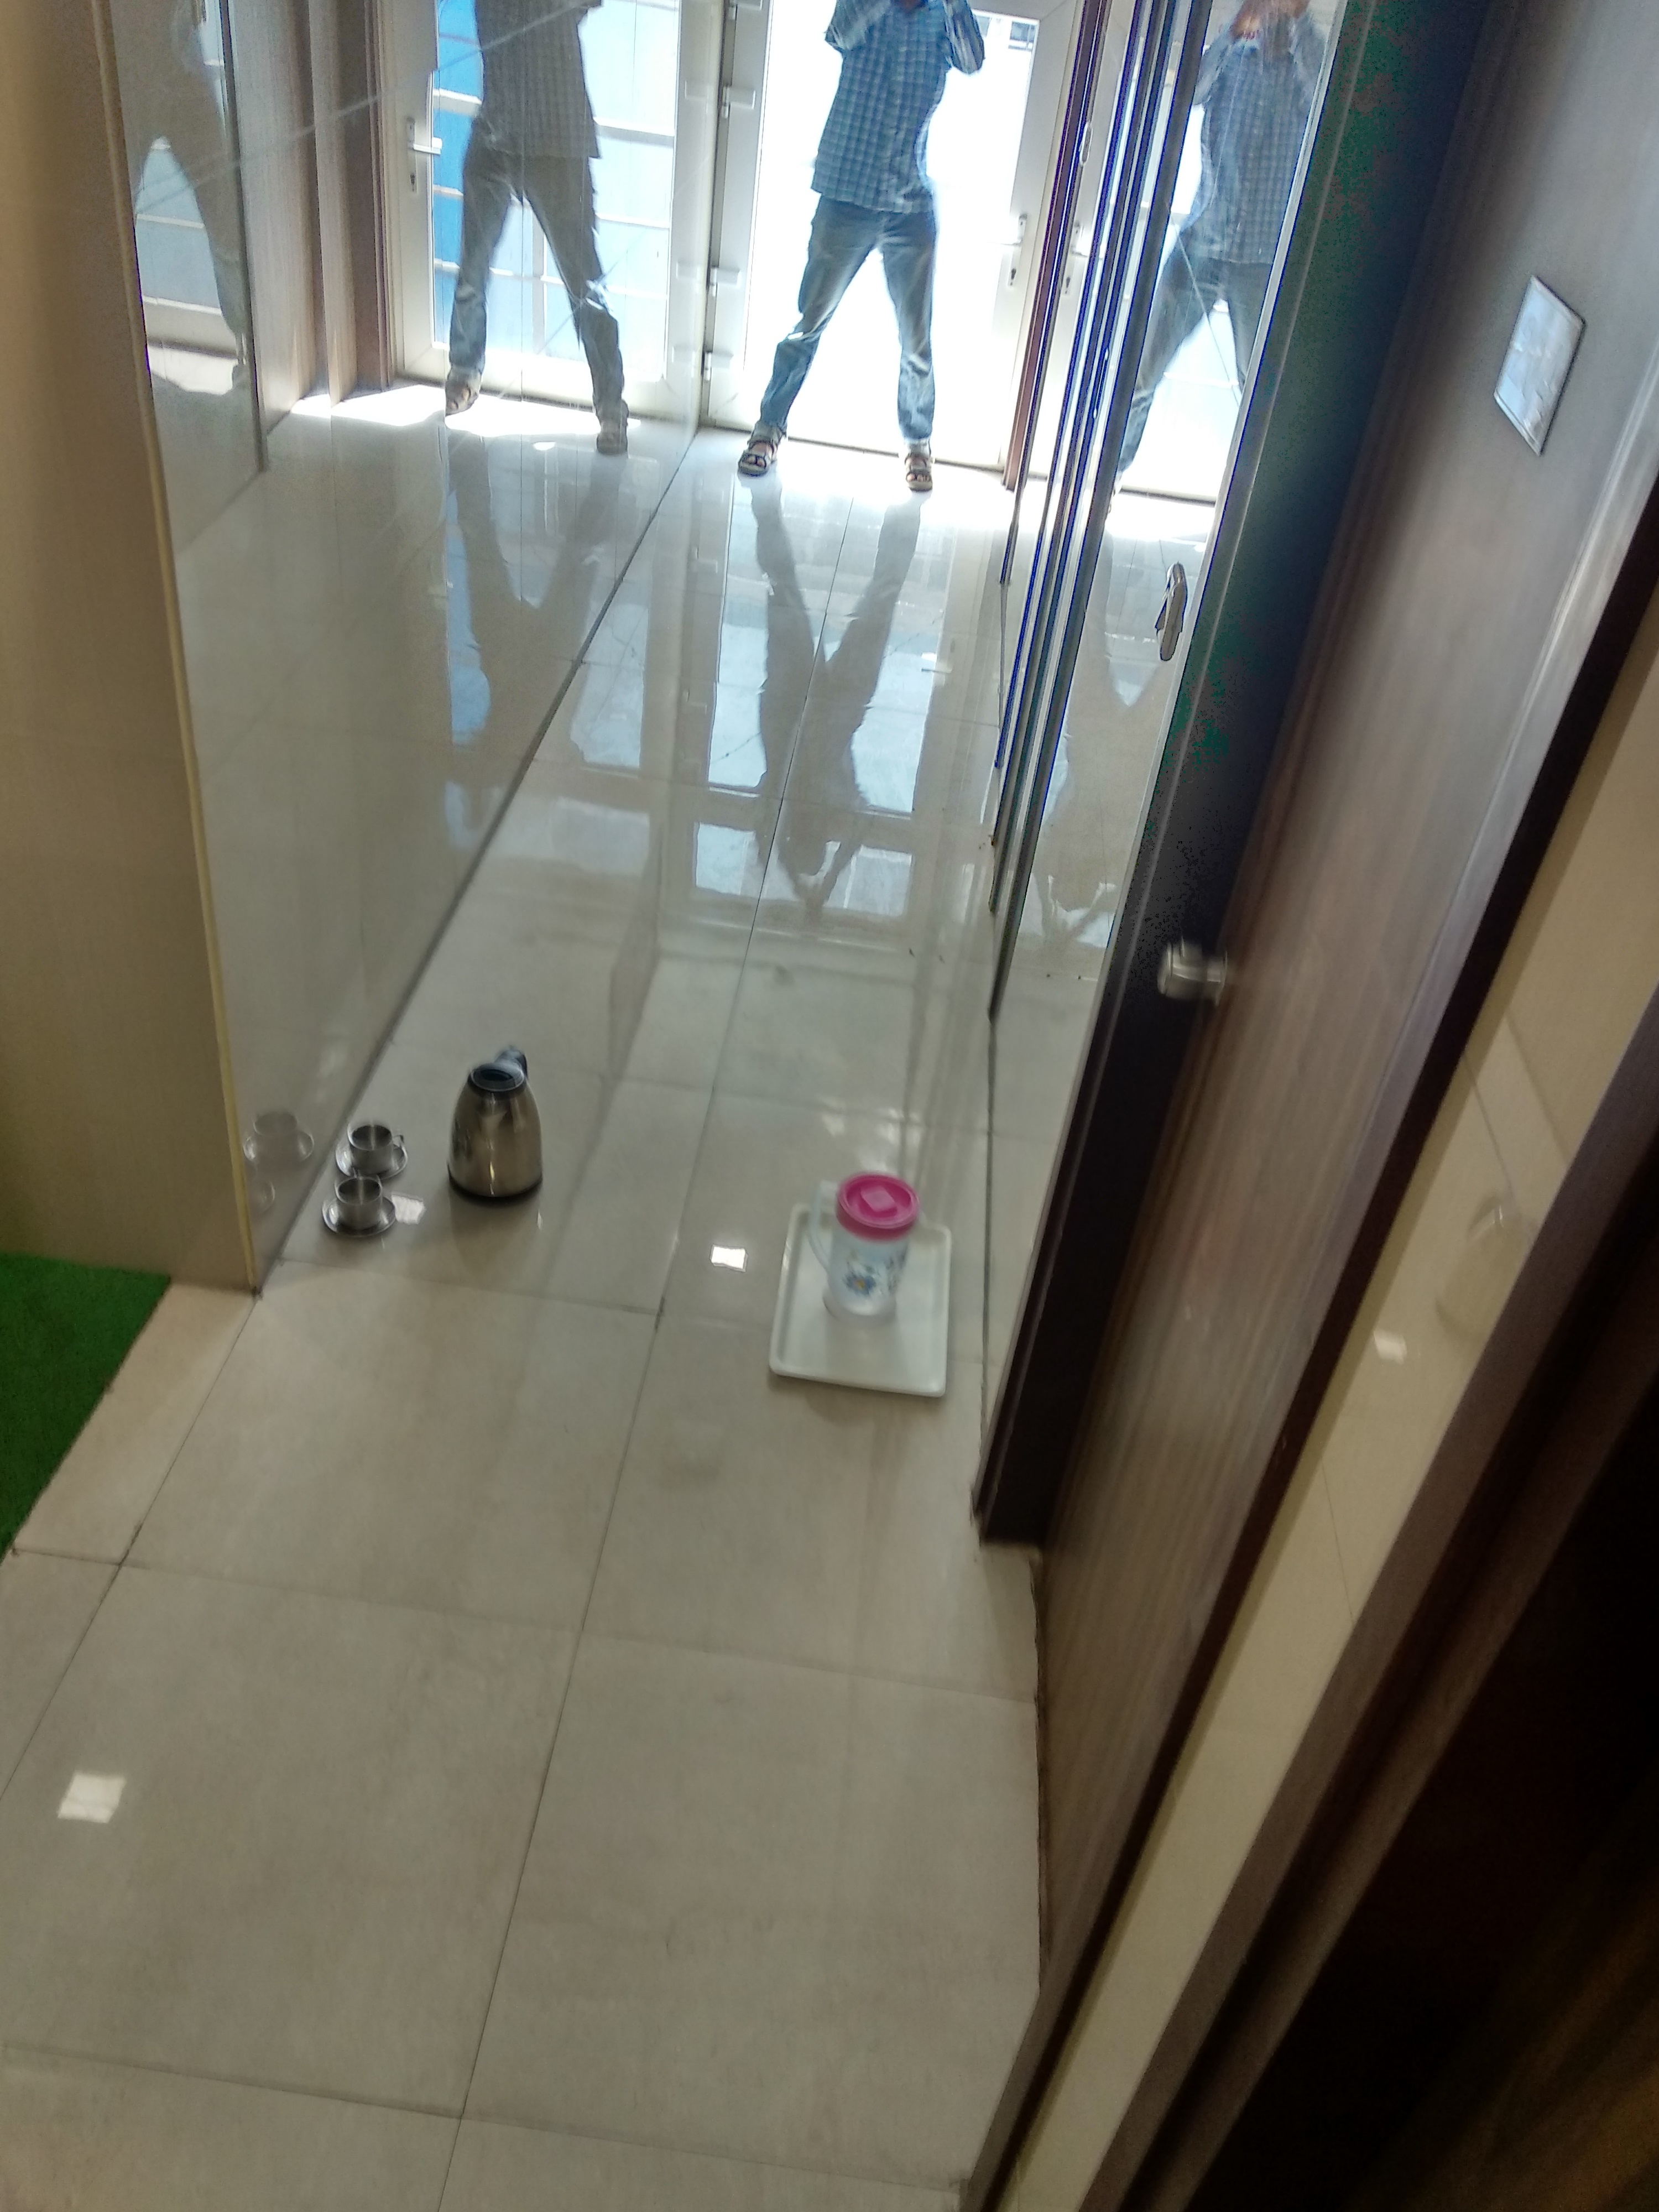CUP: (319, 1179, 406, 1244), (331, 1113, 410, 1177)
JUG: (788, 1146, 934, 1366), (441, 1036, 556, 1217)
